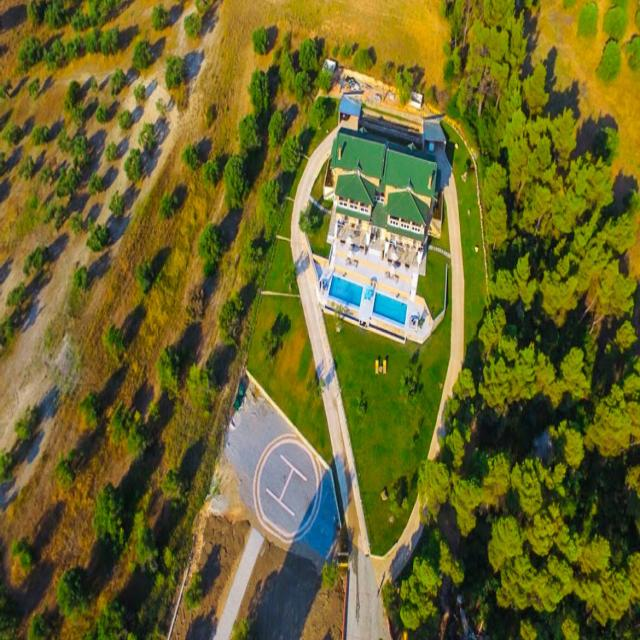helipad: (250, 430, 324, 542)
